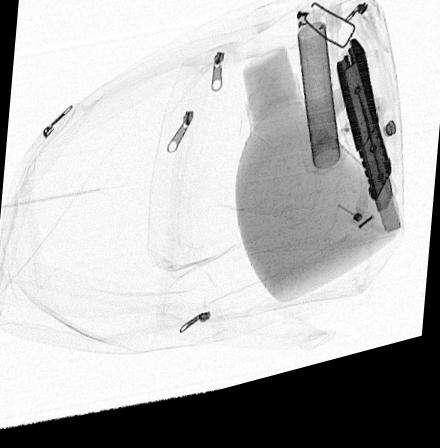Knife: (335, 57, 402, 255)
